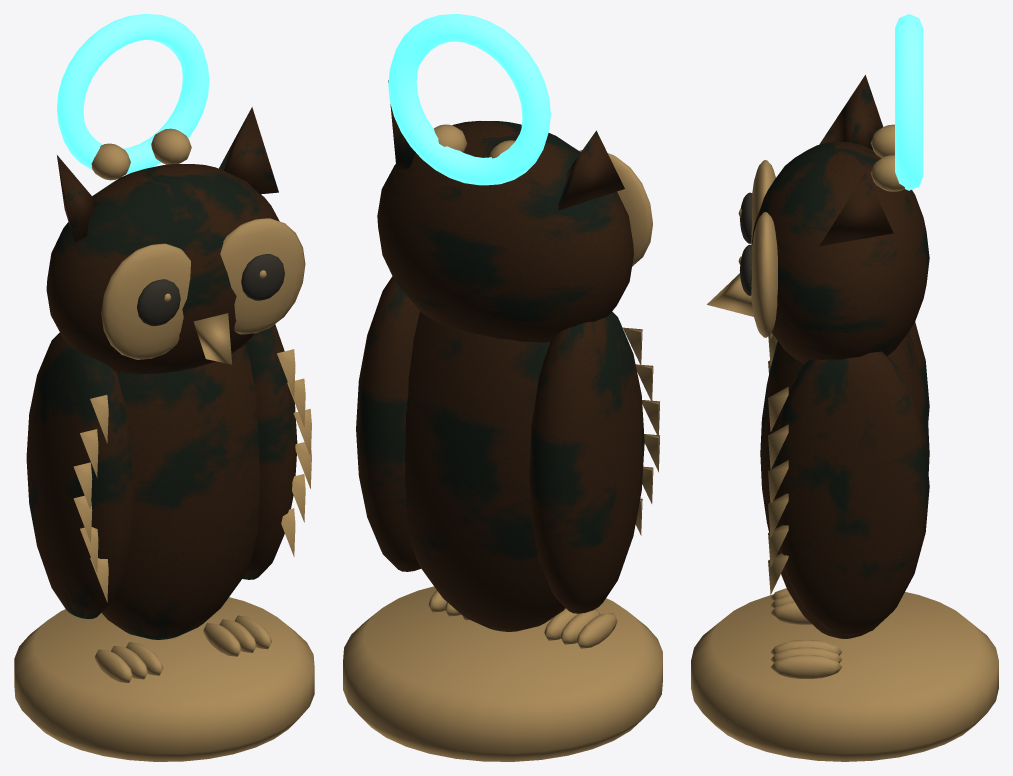
File: statuette.fbx
3 renders of one model, left to right at view 1: azimuth 30°, elevation 25°; view 2: azimuth 150°, elevation 25°; view 3: azimuth 270°, elevation 25°, orthographic. The views are drawn at different scales.
Visible parts, largest first — view 1: Reviewed_statuette_Body.066, TH_S_Statuette_Handle.066; view 2: Reviewed_statuette_Body.066, TH_S_Statuette_Handle.066; view 3: Reviewed_statuette_Body.066, TH_S_Statuette_Handle.066.
Part boxes in pixels (<box>): Reviewed_statuette_Body.066: <box>14,107,314,761</box>; TH_S_Statuette_Handle.066: <box>57,14,209,174</box>; Reviewed_statuette_Body.066: <box>343,80,662,761</box>; TH_S_Statuette_Handle.066: <box>388,14,550,185</box>; Reviewed_statuette_Body.066: <box>691,75,998,761</box>; TH_S_Statuette_Handle.066: <box>895,14,923,190</box>.
Bounding box in the file's own units: 0.12 × 0.2925 × 0.12.
4 materials, 1 textured.
